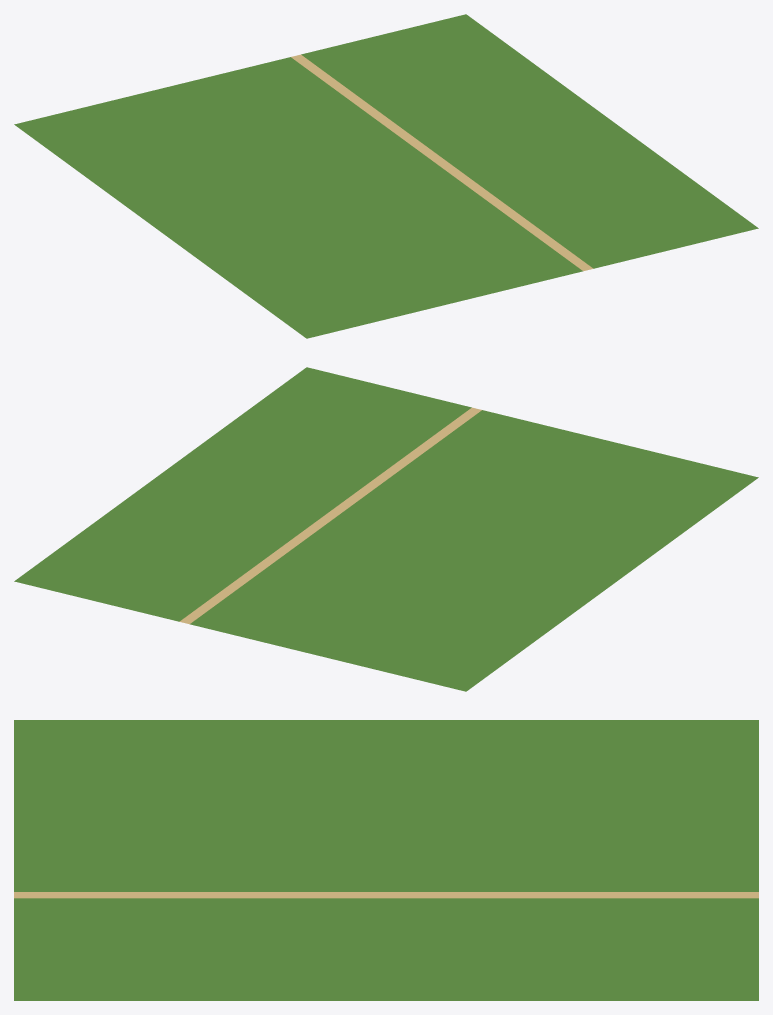
The model's file is ground.fbx.
The picture shows the model from 3 angles, top to bottom: view 1: azimuth 30°, elevation 25°; view 2: azimuth 150°, elevation 25°; view 3: azimuth 270°, elevation 25°; orthographic projection. The views are drawn at different scales.
Parts seen in each view (by area): view 1: ground; view 2: ground; view 3: ground.
Boxes of the visible parts, x1,y1,x2,y2 form: ground: [14, 14, 758, 338]; ground: [14, 367, 758, 691]; ground: [14, 720, 758, 1000].
Size of the model in its own units: 644 by 2.81e-05 by 722.
